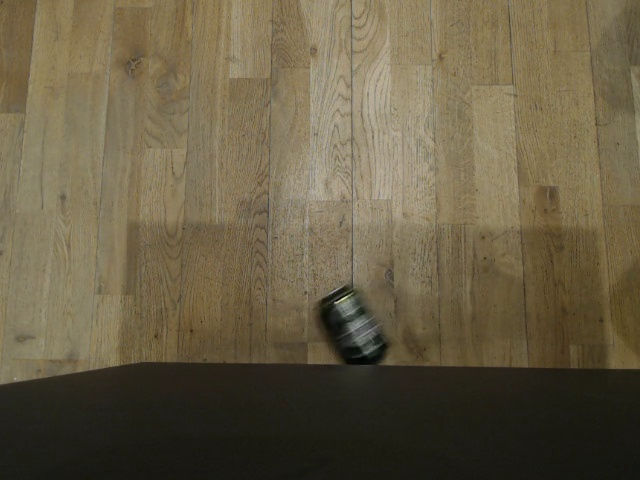beer: (304, 275, 394, 365)
